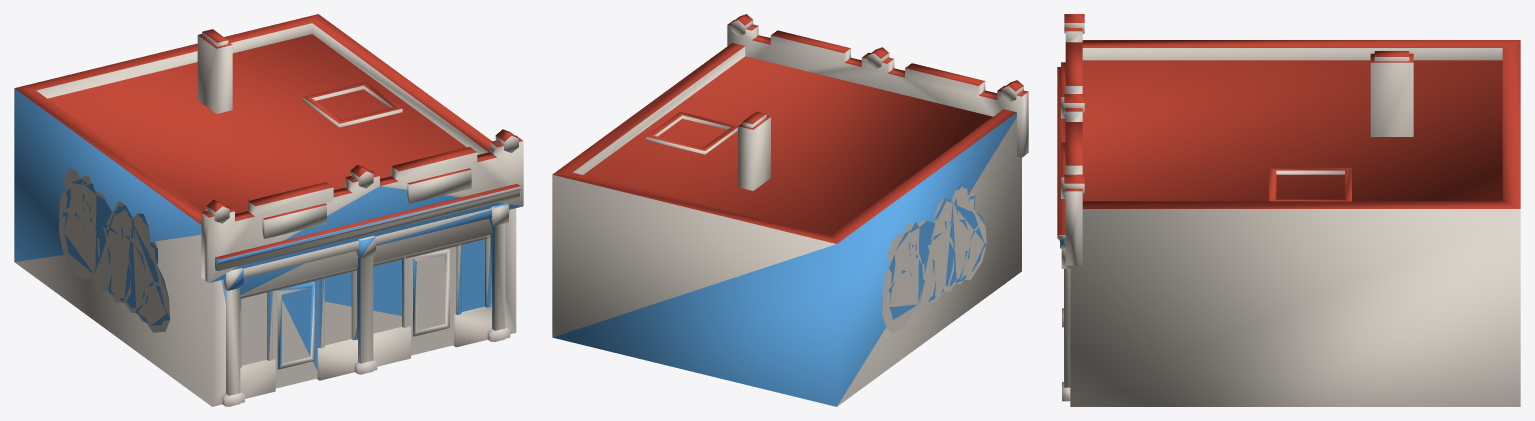
File: building_villa.obj
The picture shows the model from 3 angles, left to right: view 1: azimuth 30°, elevation 25°; view 2: azimuth 150°, elevation 25°; view 3: azimuth 270°, elevation 25°; orthographic projection. The views are drawn at different scales.
Bounding box in the file's own units: 7.55 × 5.35 × 8.45.
